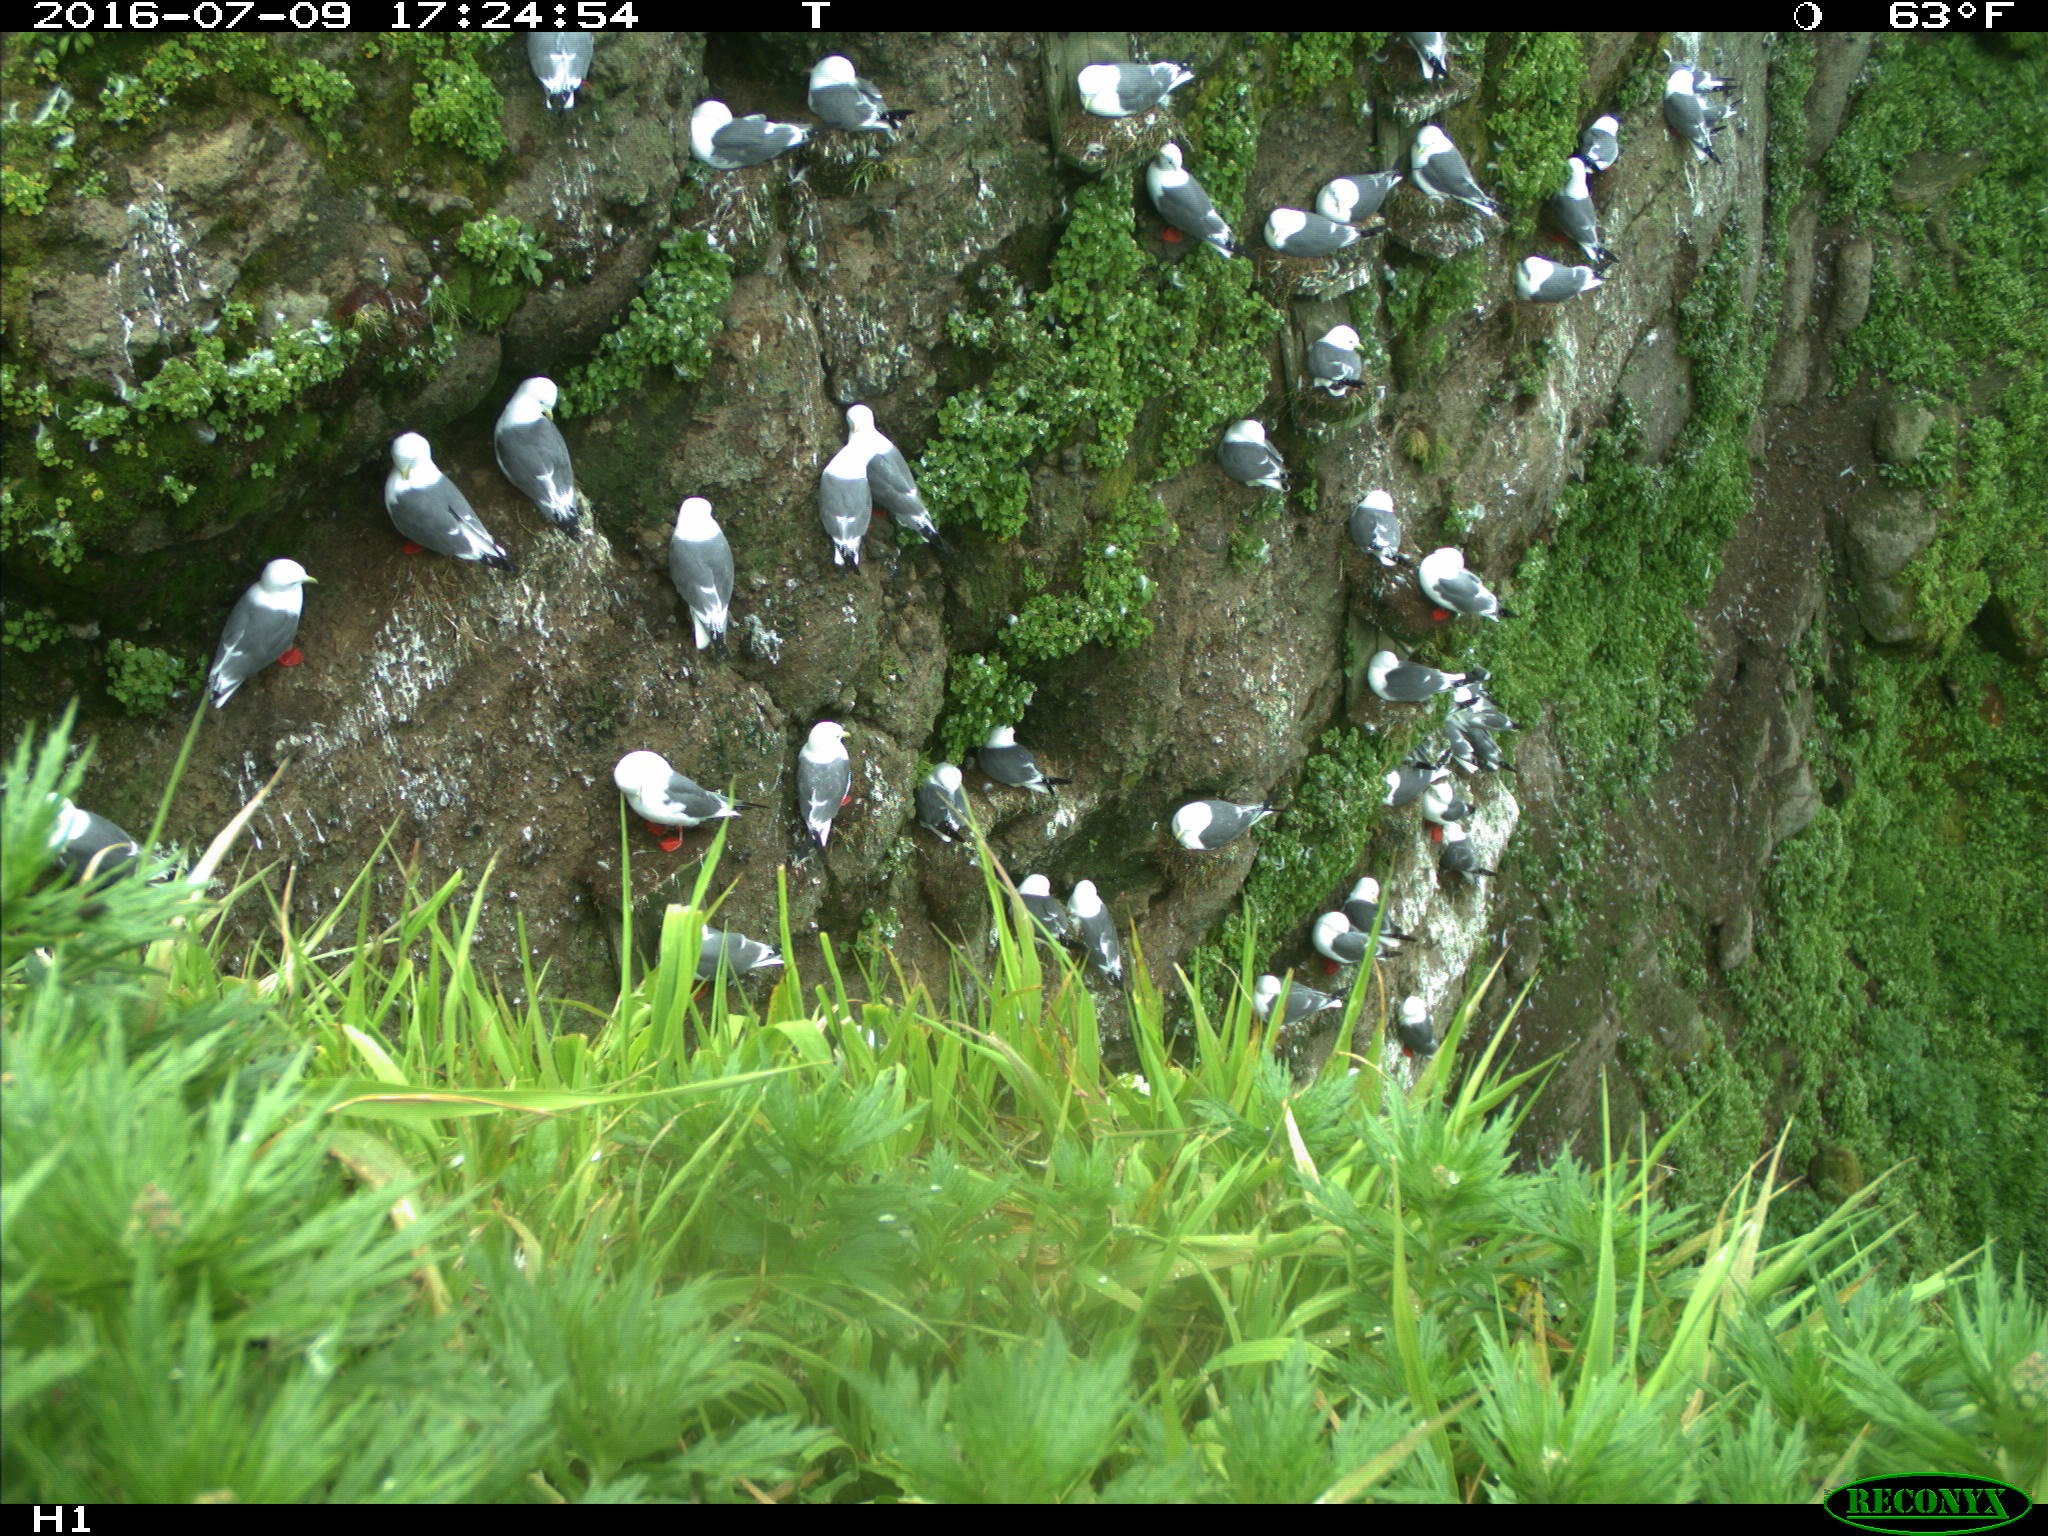Kittiwake: (561, 749, 782, 884), (352, 419, 481, 621), (477, 374, 642, 508), (653, 478, 801, 616), (832, 374, 948, 549), (1055, 32, 1229, 144), (205, 531, 332, 676), (1634, 53, 1759, 182), (1147, 774, 1300, 879), (677, 73, 832, 174), (790, 442, 901, 579), (977, 687, 1089, 821), (789, 703, 914, 821), (1379, 524, 1492, 655), (495, 18, 635, 118), (1313, 858, 1434, 971), (1138, 145, 1247, 271), (806, 44, 911, 171), (1205, 399, 1316, 508), (1061, 862, 1142, 1007), (1392, 124, 1508, 223), (1350, 626, 1476, 716), (1322, 478, 1442, 570), (1250, 941, 1338, 1060), (1306, 144, 1401, 253), (919, 734, 990, 879), (676, 908, 787, 1000), (1295, 319, 1422, 399), (1253, 181, 1351, 282), (1530, 161, 1601, 281), (1393, 768, 1500, 845), (1000, 858, 1069, 971), (1488, 252, 1608, 315), (1596, 98, 1672, 195), (1305, 912, 1385, 992), (1551, 103, 1614, 190)
